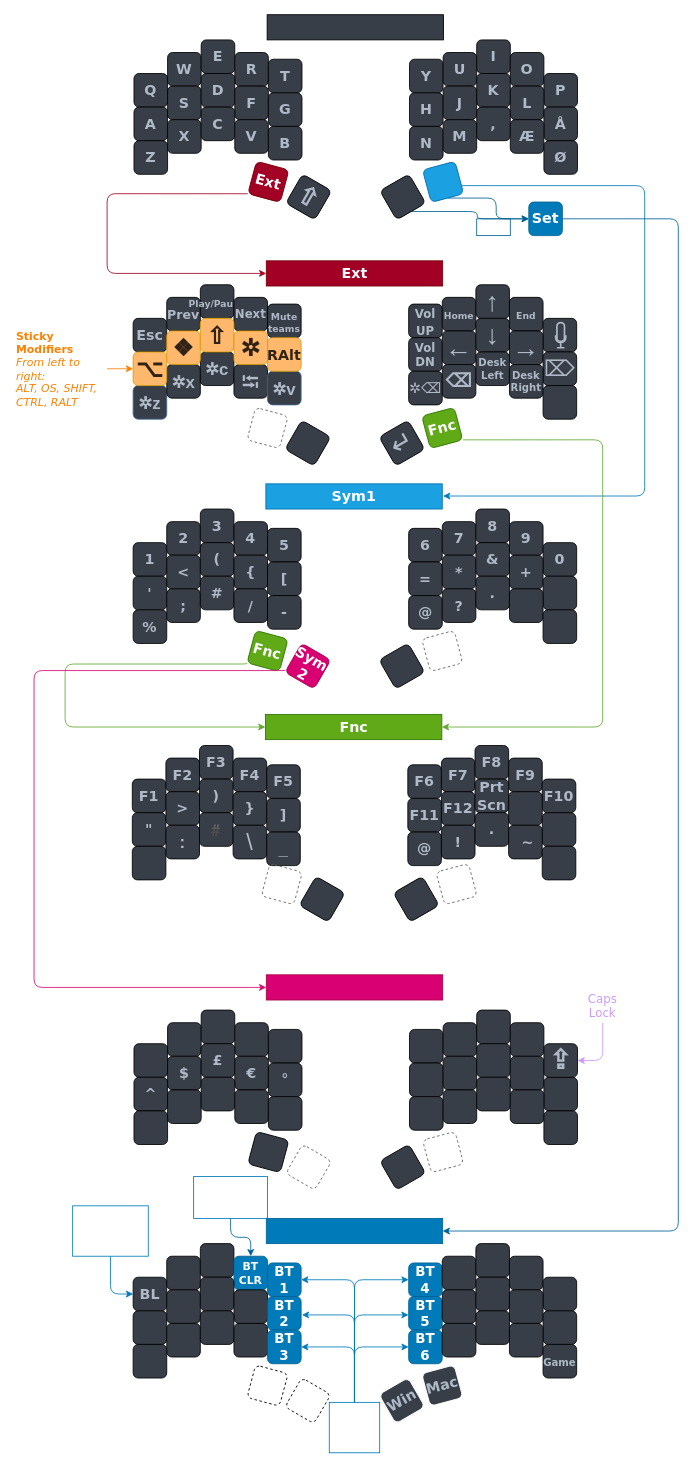
Some shapes in this 700 by 1467 pixel diagram are drawn without their labels. Here are the shapes that lost their labels. From the top down, the box of each, then its label:
(266, 14, 444, 40): Base
(379, 173, 426, 220): Spc
(422, 160, 464, 203): Sym 1
(476, 218, 510, 236): Combo
(265, 974, 443, 1000): Sym2
(193, 1176, 268, 1218): Unpair the current BT profile
(72, 1205, 148, 1256): Bootloader mode (flash new fw)
(265, 1218, 443, 1244): Settings
(328, 1402, 380, 1453): Select Bluetooth Profile
